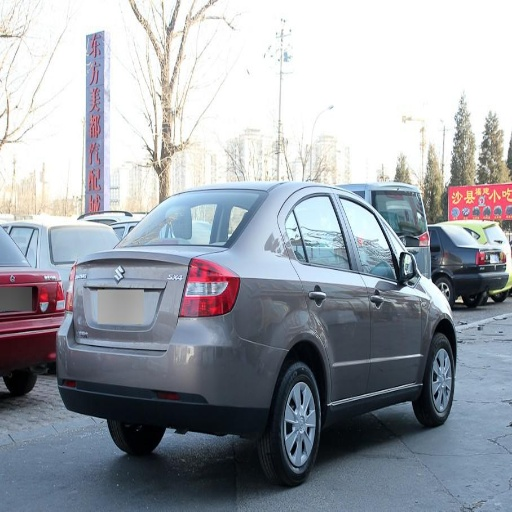back_bumper: (45, 313, 283, 431)
back_right_door: (282, 190, 370, 402)
